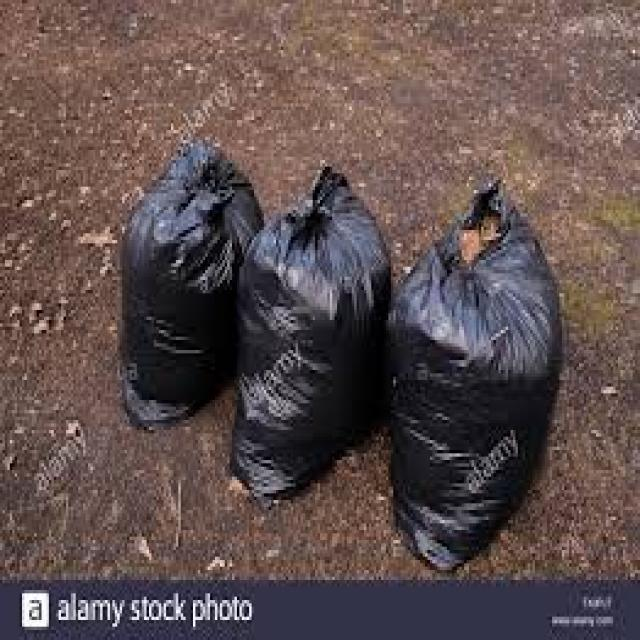garbage: (113, 136, 572, 574)
